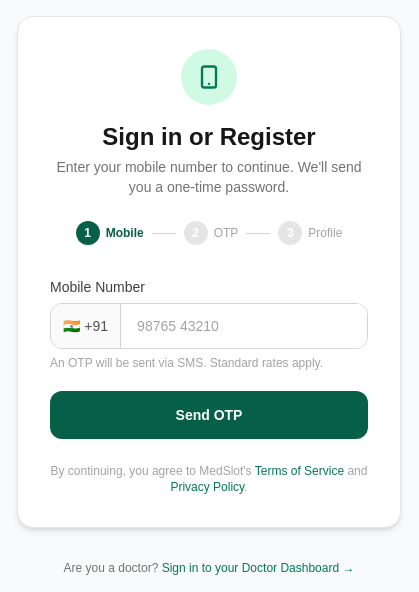
PatientOtpAuth › Step 2 — OTP entry › shows validation error when Verify is clicked with incomplete OTP
This screenshot has width=419, height=592.
Type "9876543210" into the field labelled "Mobile Number" at (244,326), box [121, 304, 367, 348]
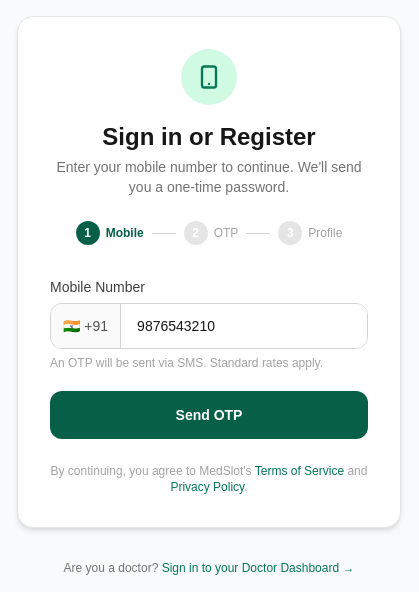
Click the button "Send OTP" at (209,415), box [50, 391, 368, 439]
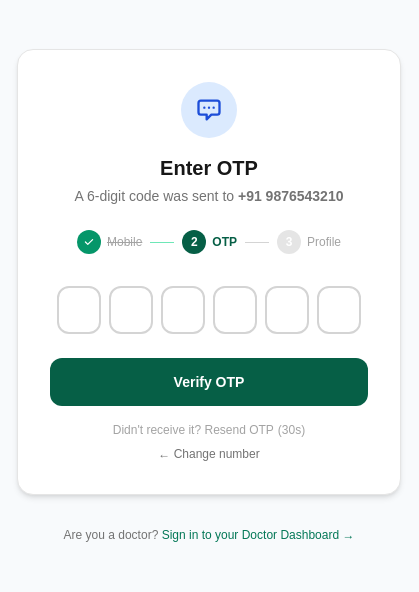
expect the heading "Enter OTP" is shown: met, box [160, 157, 258, 179]
Type "1" into the field named "OTP digit 1" at (79,310), box [57, 286, 101, 334]
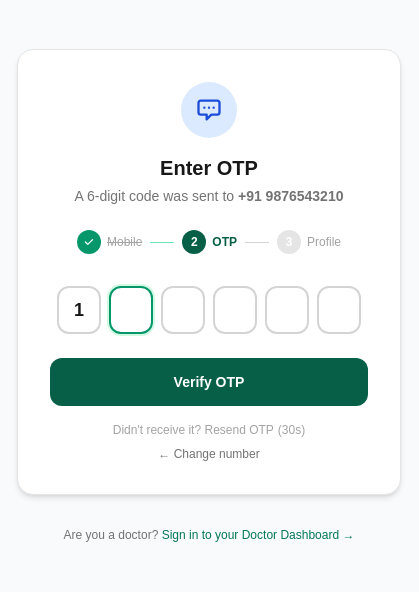
Type "2" into the field named "OTP digit 2" at (131,310), box [109, 286, 153, 334]
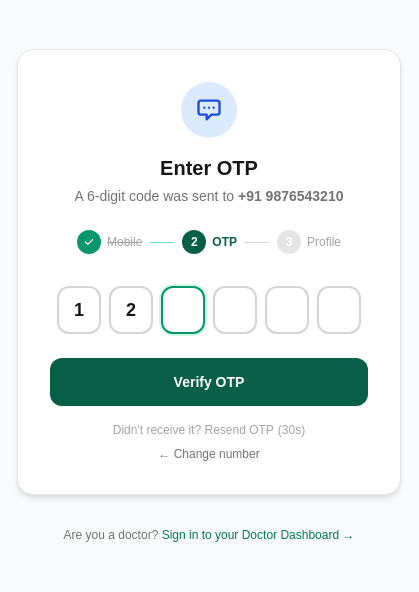
Type "3" into the field named "OTP digit 3" at (183,310), box [161, 286, 205, 334]
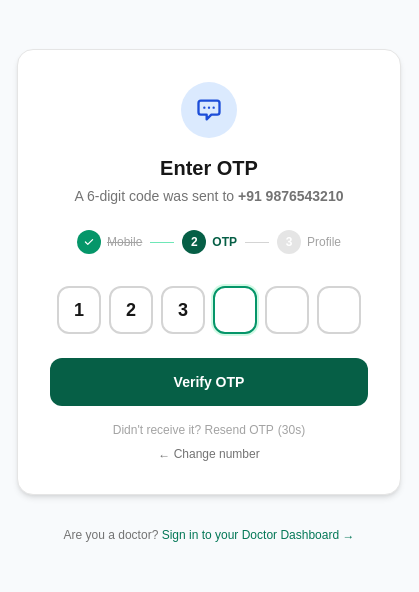
Click the button "Verify OTP" at (209,382), box [50, 358, 368, 406]
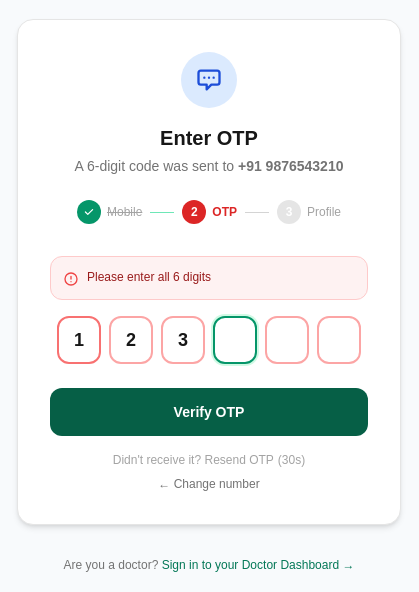
expect the text "Please enter all 6 digits" is shown: met, box [87, 269, 211, 285]
